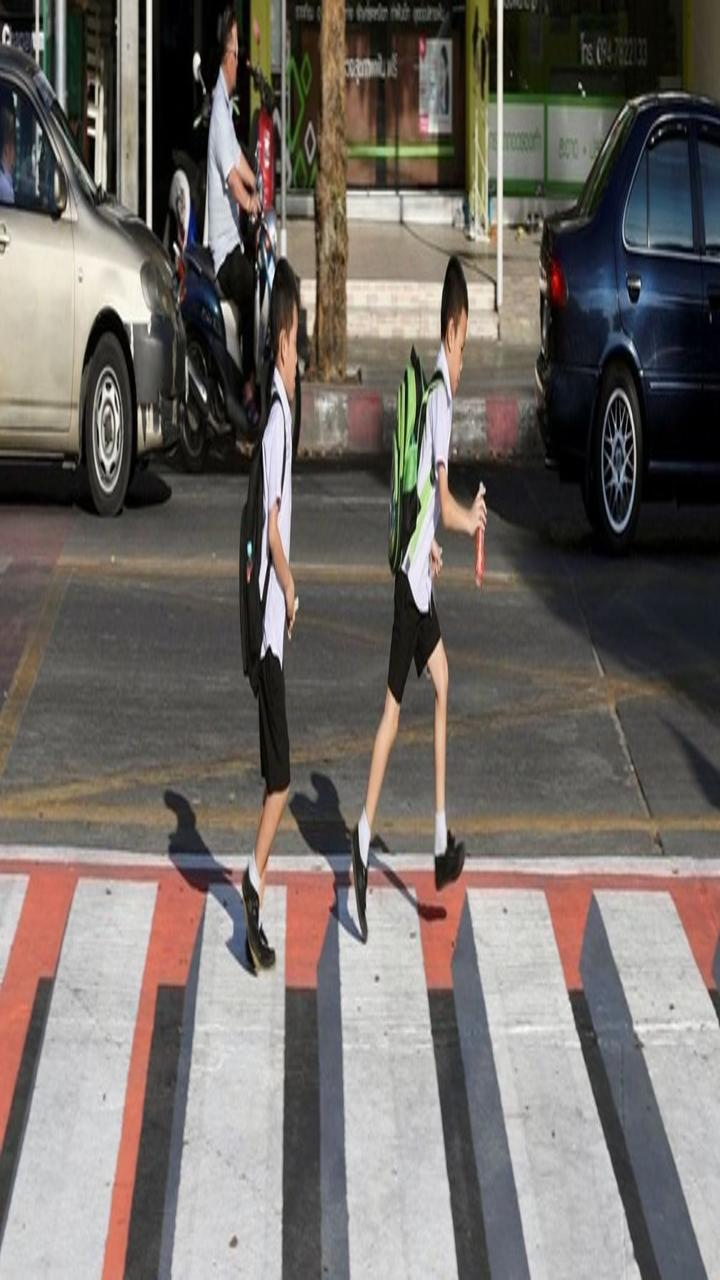pedestrian: (343, 253, 538, 973), (181, 271, 376, 991)
vehicle: (530, 59, 720, 548), (1, 52, 189, 541)
